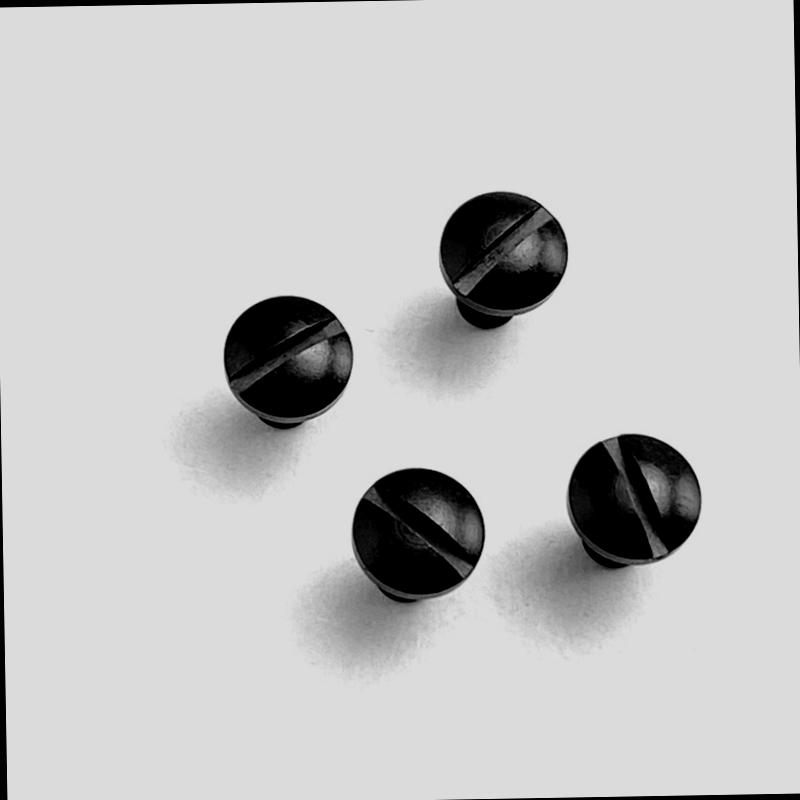screw: (350, 460, 495, 608), (568, 427, 711, 568), (438, 181, 568, 322), (226, 284, 357, 418)
